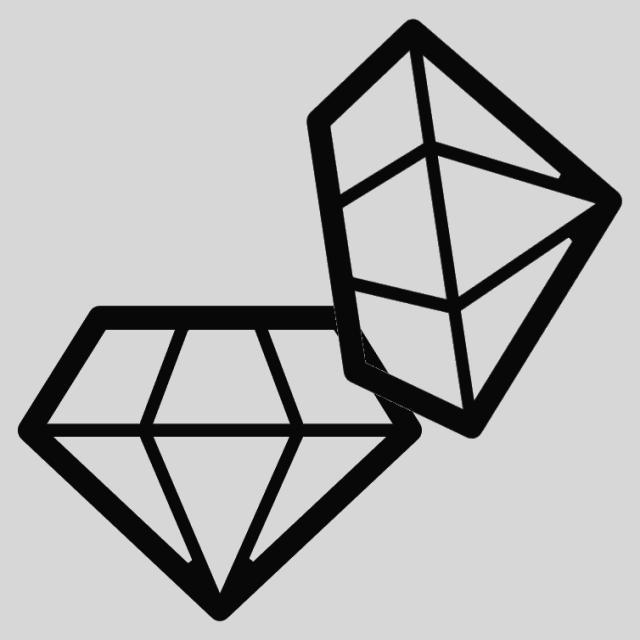diamond: (294, 10, 631, 451), (12, 301, 434, 633)
